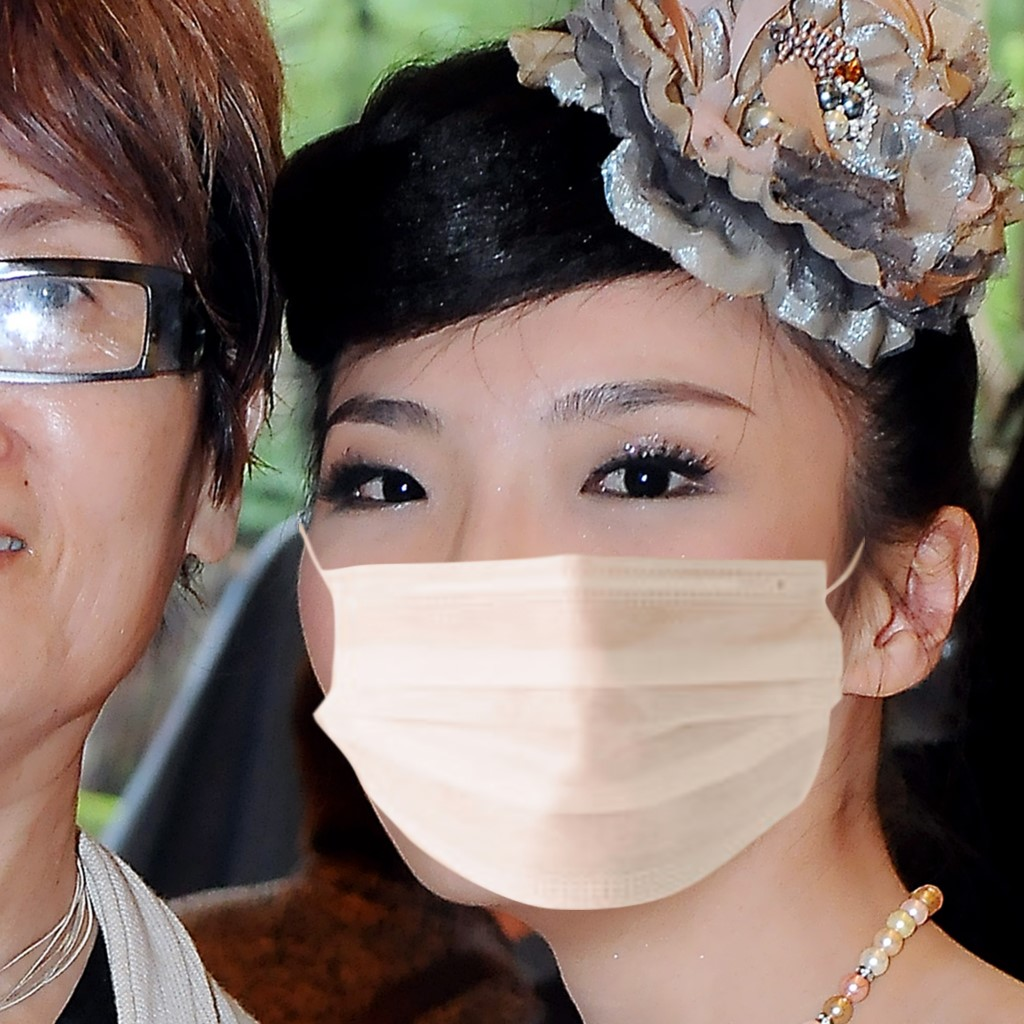con_mascara: (314, 266, 872, 928)
